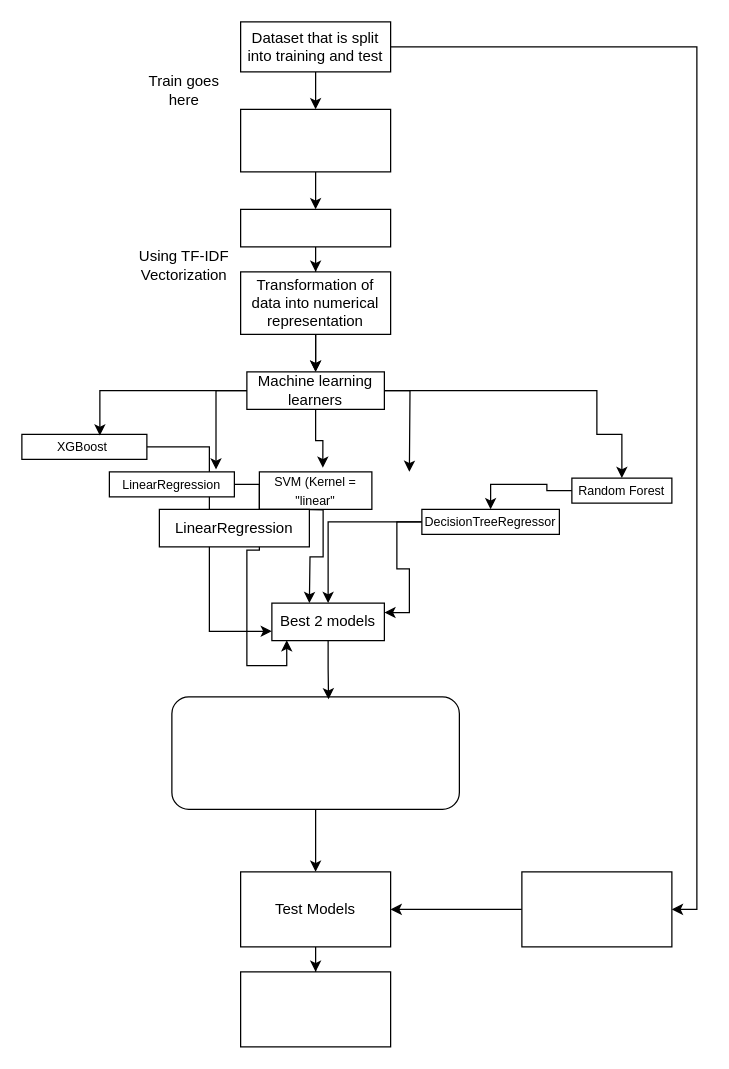
Image size: 729x1069. Some labels were removed from this diagram. Here are the shapes that lost their labels. From the top down, the centre of each, then its label:
(315,140): Extraction , pre-processing and lemmatize
(315,227): Structured Data
(315,752): Ensemble Learning ( With KNN as meta model)
(596,909): Preprocessing of test dataset
(315,1009): Output Results
